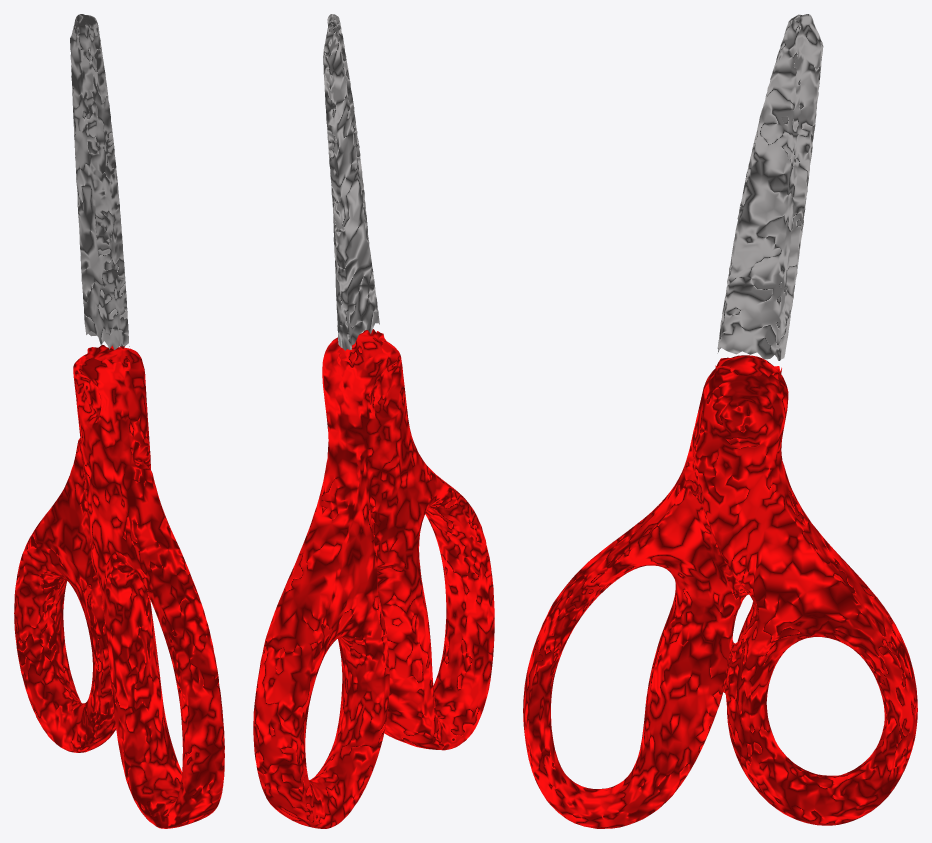
The picture shows the model from 3 angles, left to right: view 1: azimuth 30°, elevation 25°; view 2: azimuth 150°, elevation 25°; view 3: azimuth 270°, elevation 25°; orthographic projection. The views are drawn at different scales.
Parts seen in each view (by area): view 1: Node_0000001242CAE7F0 (×2); view 2: Node_0000001242CAE7F0 (×2); view 3: Node_0000001242CAE7F0 (×2).
Part boxes in pixels (left/top/right/bottom): Node_0000001242CAE7F0 (×2): left=14, top=14, right=224, bottom=828; Node_0000001242CAE7F0 (×2): left=253, top=14, right=494, bottom=828; Node_0000001242CAE7F0 (×2): left=523, top=14, right=917, bottom=828.
Bounding box in the file's own units: 0.0158 × 0.1985 × 0.0877.
